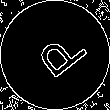P_SW: (24, 25, 86, 85)
